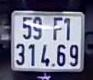1: (28, 43, 37, 68), (64, 17, 73, 42)
3: (14, 42, 26, 68)
4: (38, 42, 52, 69)
5: (20, 15, 33, 40)
6: (55, 43, 67, 69)
9: (68, 43, 80, 69), (33, 15, 43, 41)
F: (51, 15, 64, 39)
